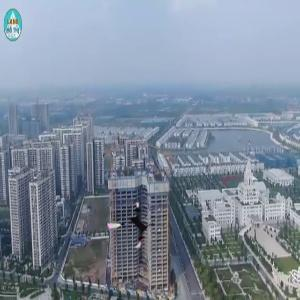drone: (107, 200, 159, 252)
